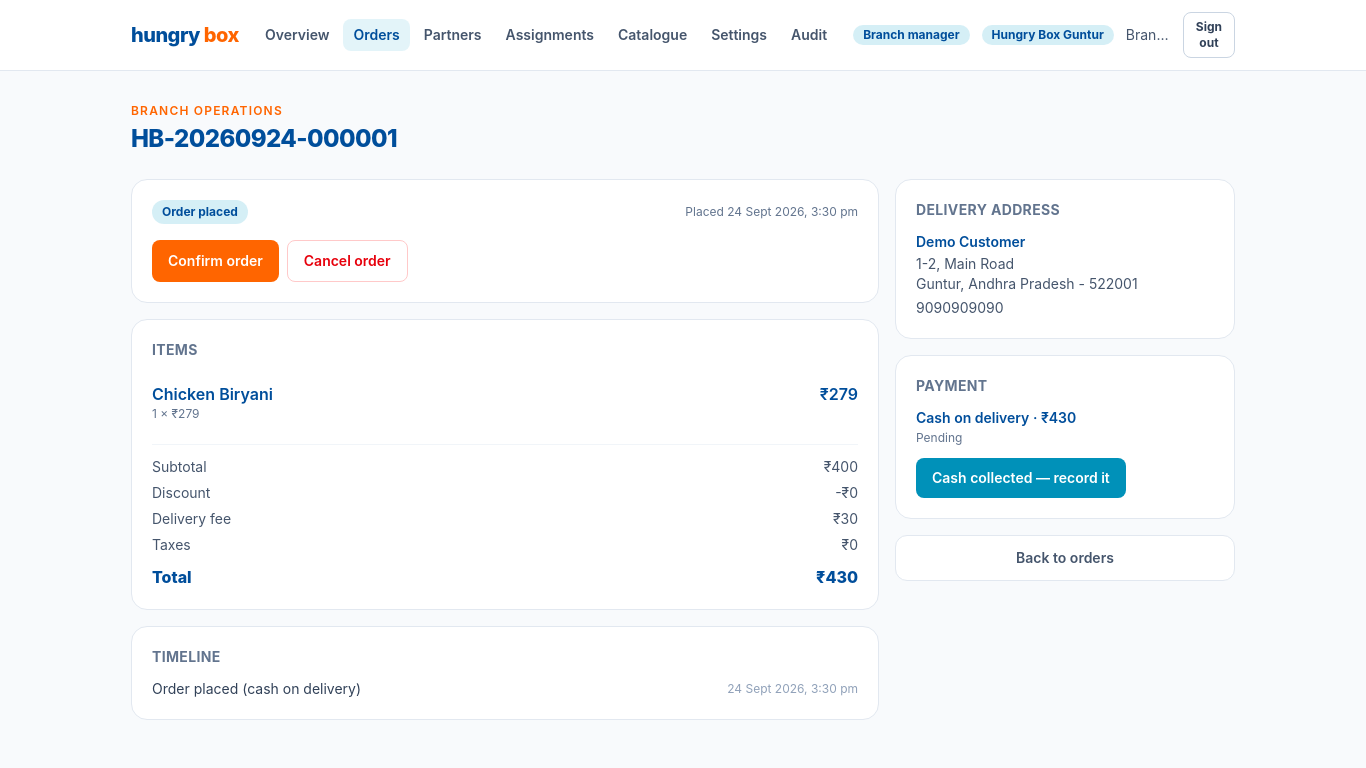
manager orders › records a pending cash-on-delivery collection with a reason
The width and height of the screenshot is (1366, 768).
Expected: the heading "HB-20260924-000001" is shown, [131,123,397,155]
Expected: the text "Cash on delivery · ₹430" is shown, [916,409,1076,426]
Click the button "Cash collected — record it".
click(1021, 478)  # box [916,458,1126,498]
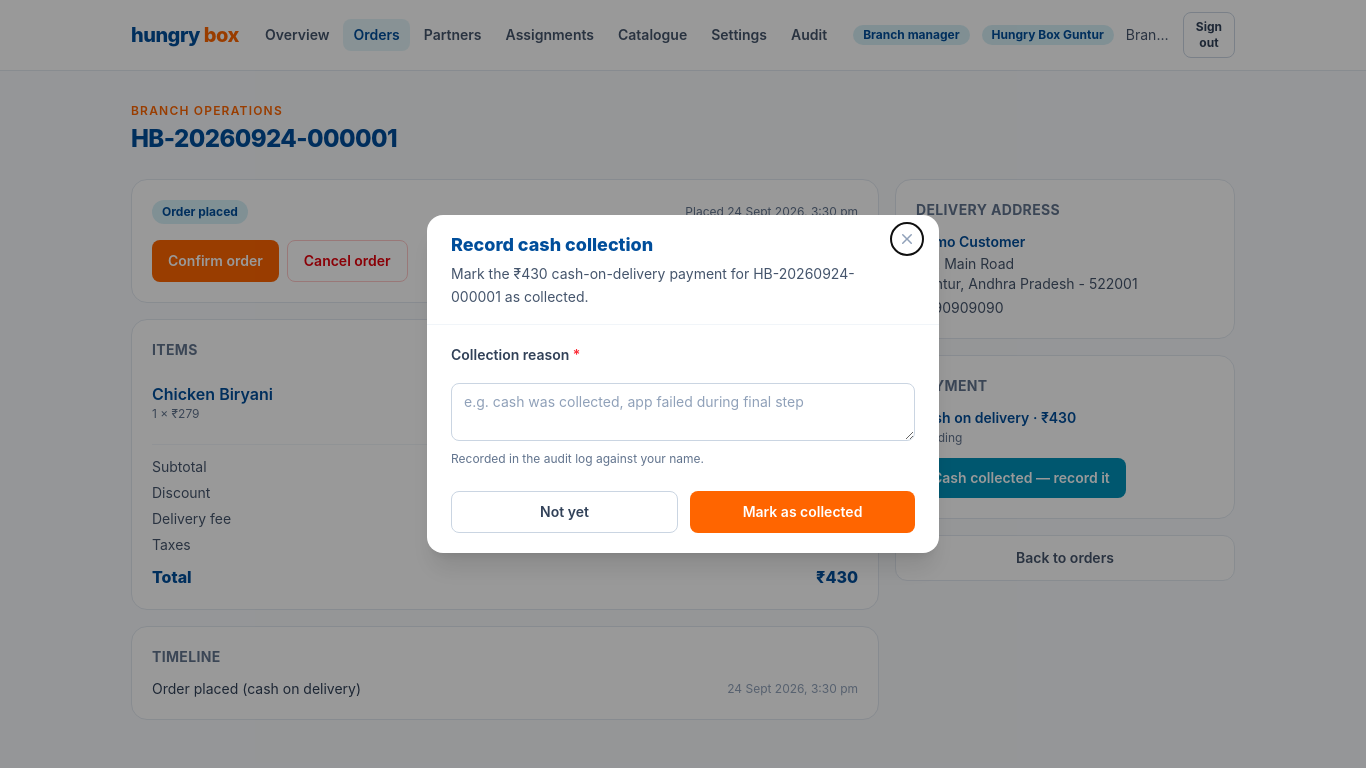
Type "Cash received in hand" into the text box labelled "Collection reason *".
click(683, 412); type("Cash received in hand")  # box [451,383,915,441]
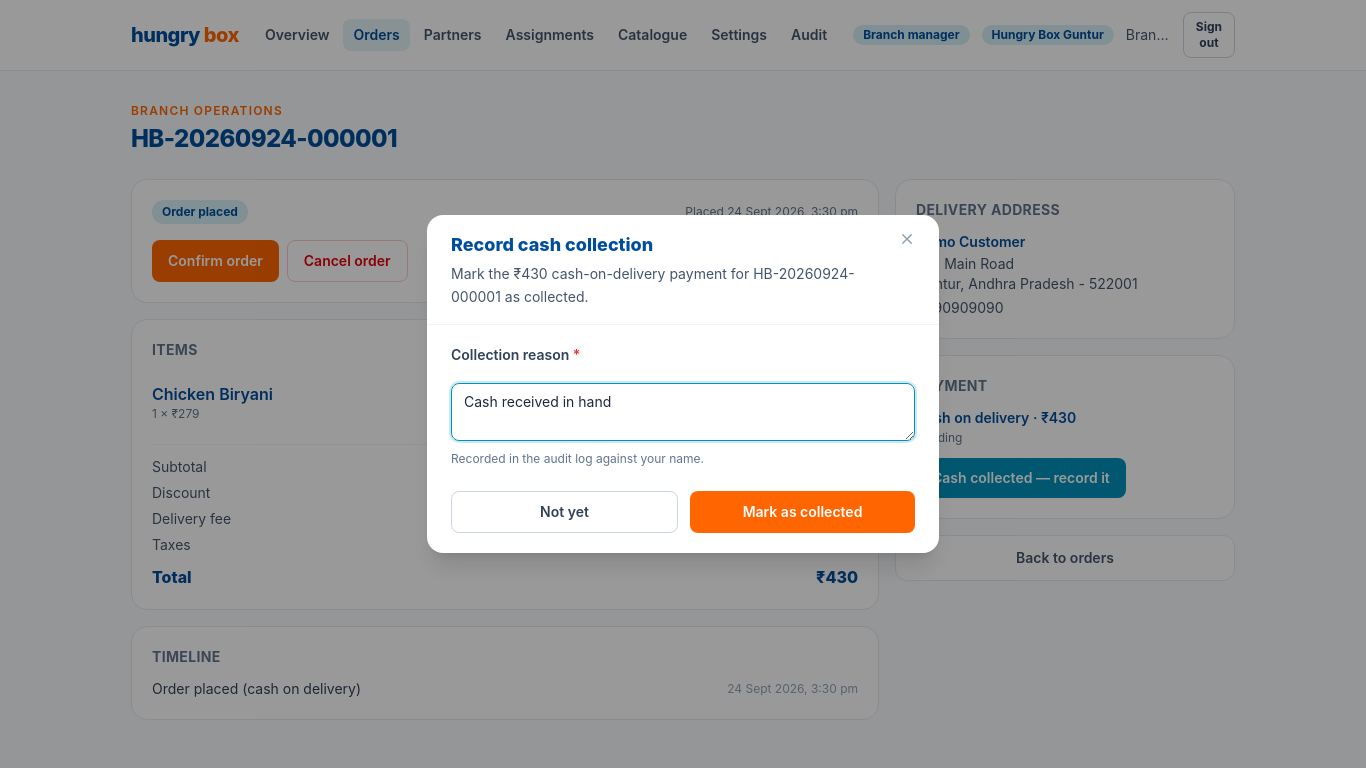
Click the button "Mark as collected".
click(802, 512)  # box [690,491,915,533]
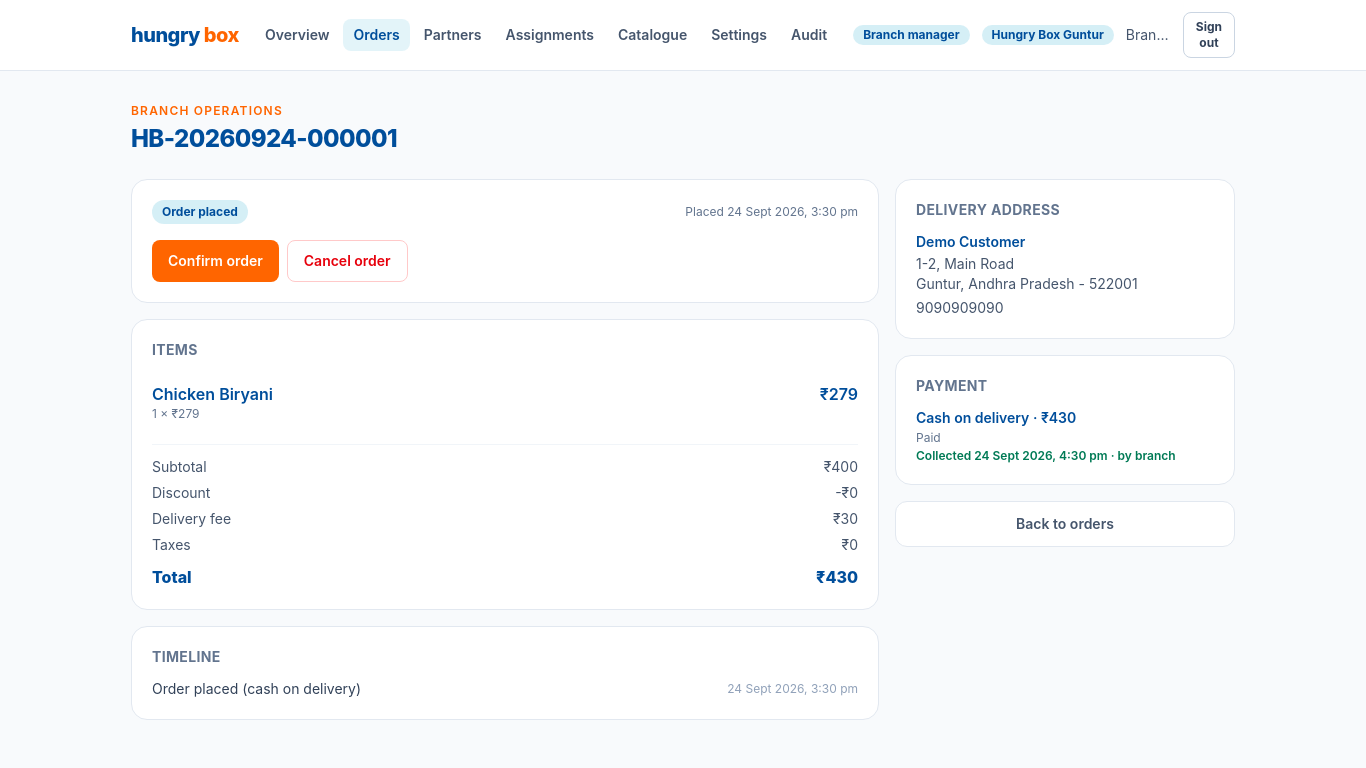
Now the text "Collected 24 Sept 2026, 4:30 pm · by branch" is shown, box [916,448,1214,464]
